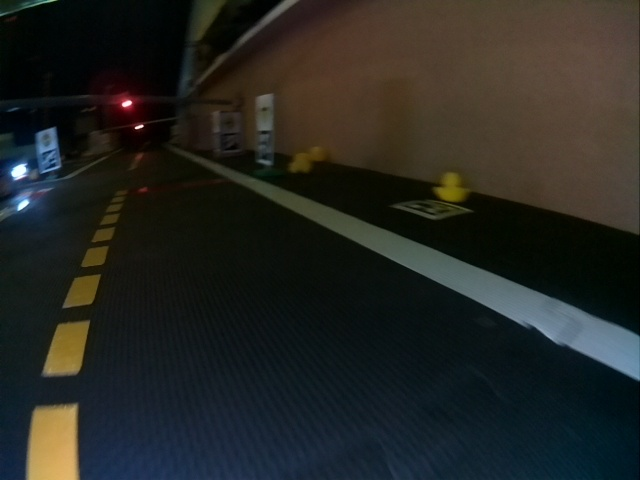Duckie: (434, 172, 470, 201), (289, 153, 311, 173), (310, 147, 325, 161)
Intersection sign: (257, 96, 273, 127), (219, 112, 241, 129)
QR code: (389, 202, 472, 219), (256, 130, 273, 165), (41, 148, 59, 173), (222, 133, 240, 151), (212, 132, 220, 154)
Traffic light: (134, 122, 144, 131)
